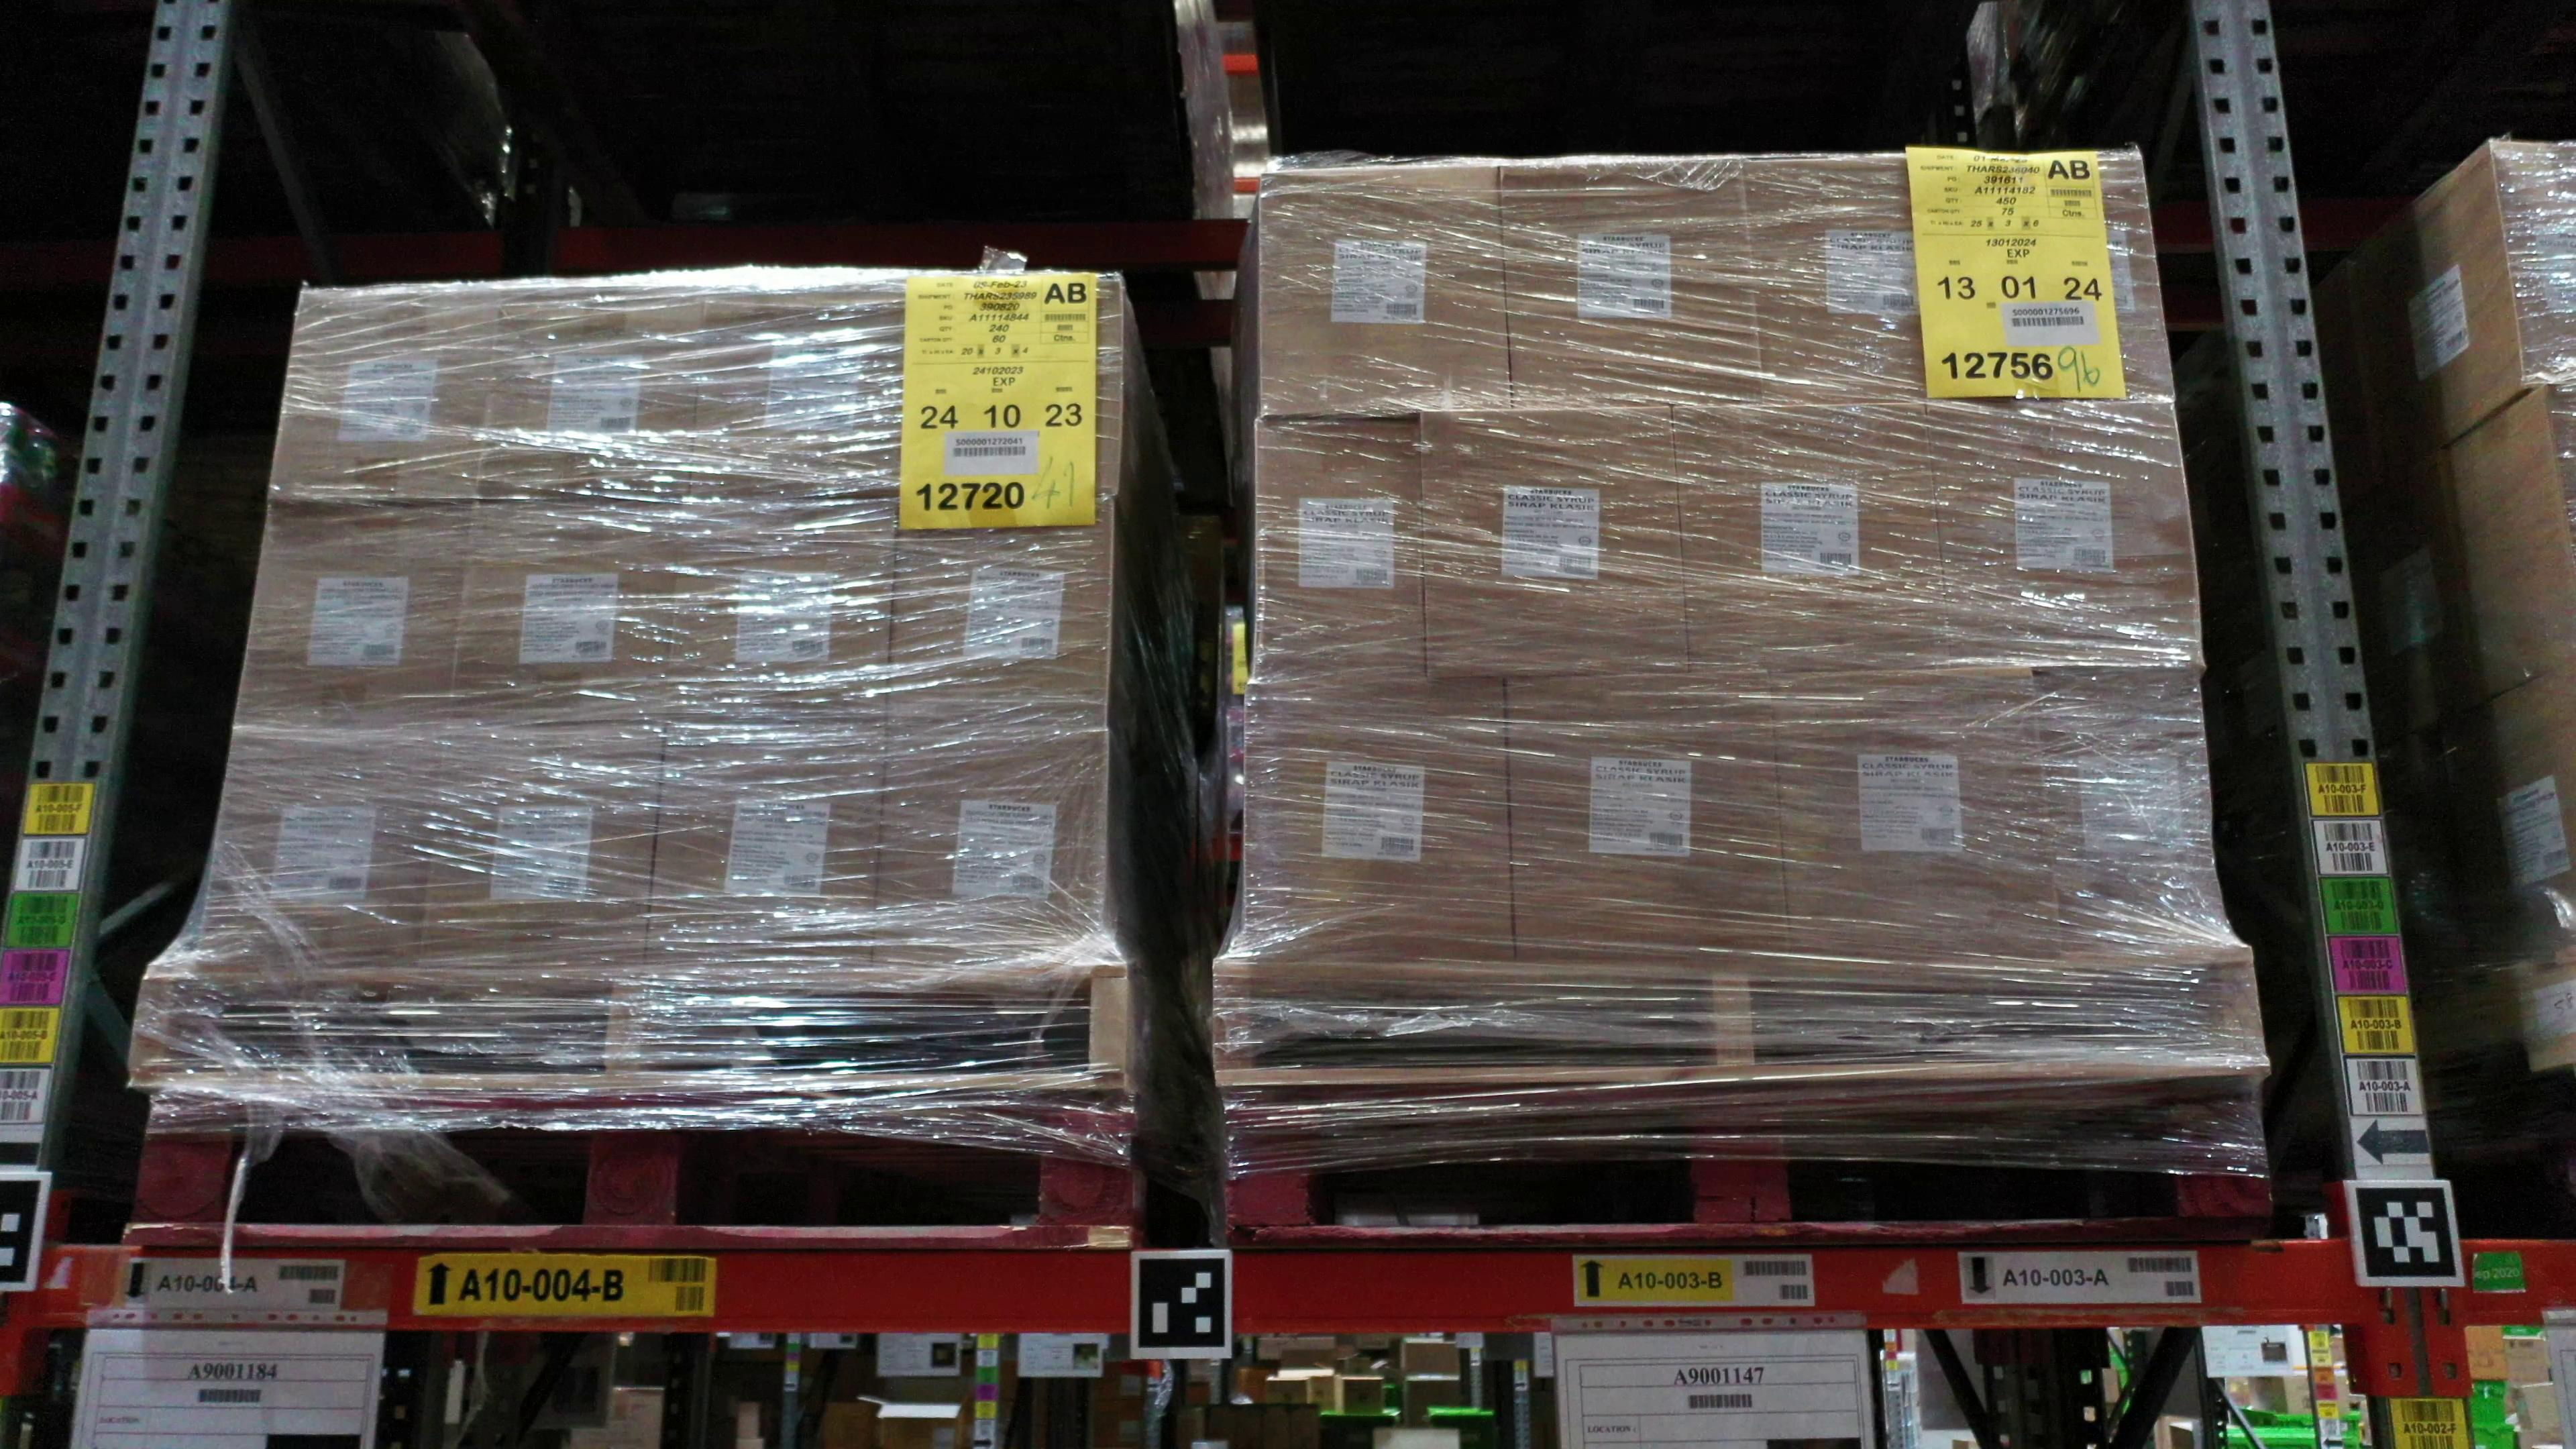-: (1771, 662, 2066, 955), (1506, 672, 1794, 964), (1238, 678, 1516, 961), (1672, 402, 1955, 669), (1923, 398, 2203, 667), (1417, 407, 1691, 678), (1744, 154, 2022, 403), (1497, 156, 1766, 412), (1254, 163, 1511, 423), (409, 736, 669, 982), (635, 734, 885, 989), (865, 731, 1109, 982), (228, 501, 474, 740), (195, 738, 442, 973), (442, 499, 685, 738), (660, 502, 904, 740), (2033, 663, 2229, 952), (881, 492, 1113, 734), (686, 281, 915, 506), (265, 288, 501, 506), (476, 287, 709, 502), (904, 274, 1125, 497), (1254, 418, 1424, 681), (1999, 154, 2176, 398), (2486, 136, 2576, 391)
